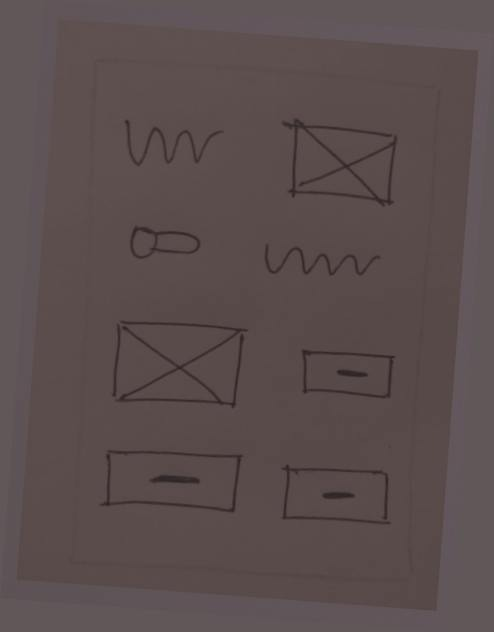button: (97, 439, 248, 523), (271, 455, 398, 538), (291, 337, 402, 415)
image: (99, 310, 258, 418), (267, 107, 411, 219)
switch: (122, 216, 209, 270)
text: (252, 230, 389, 293), (111, 108, 233, 176)
